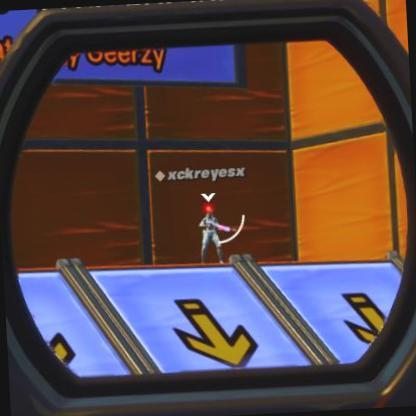person: (200, 201, 223, 255)
